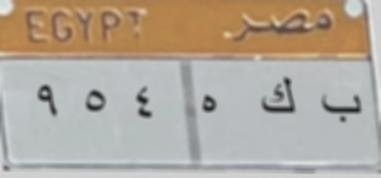4: (127, 77, 161, 126)
5: (80, 84, 115, 121)
9: (32, 78, 64, 122)
baa: (314, 84, 368, 126)
haa: (197, 86, 224, 119)
kaaf: (254, 75, 302, 122)
